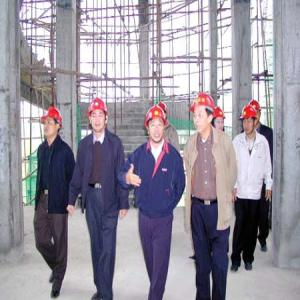red: (144, 107, 168, 144), (193, 95, 216, 133), (42, 106, 64, 141), (88, 97, 109, 133), (241, 108, 258, 135), (212, 104, 226, 132), (248, 98, 262, 123)
